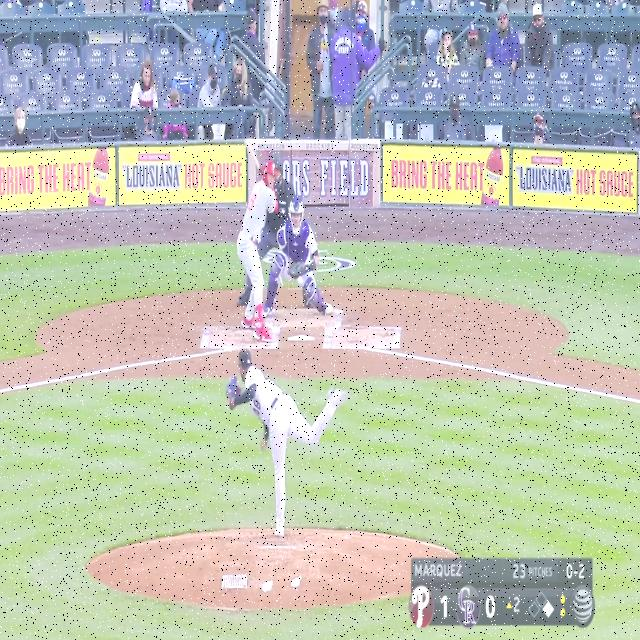baseball: (297, 274, 304, 286)
